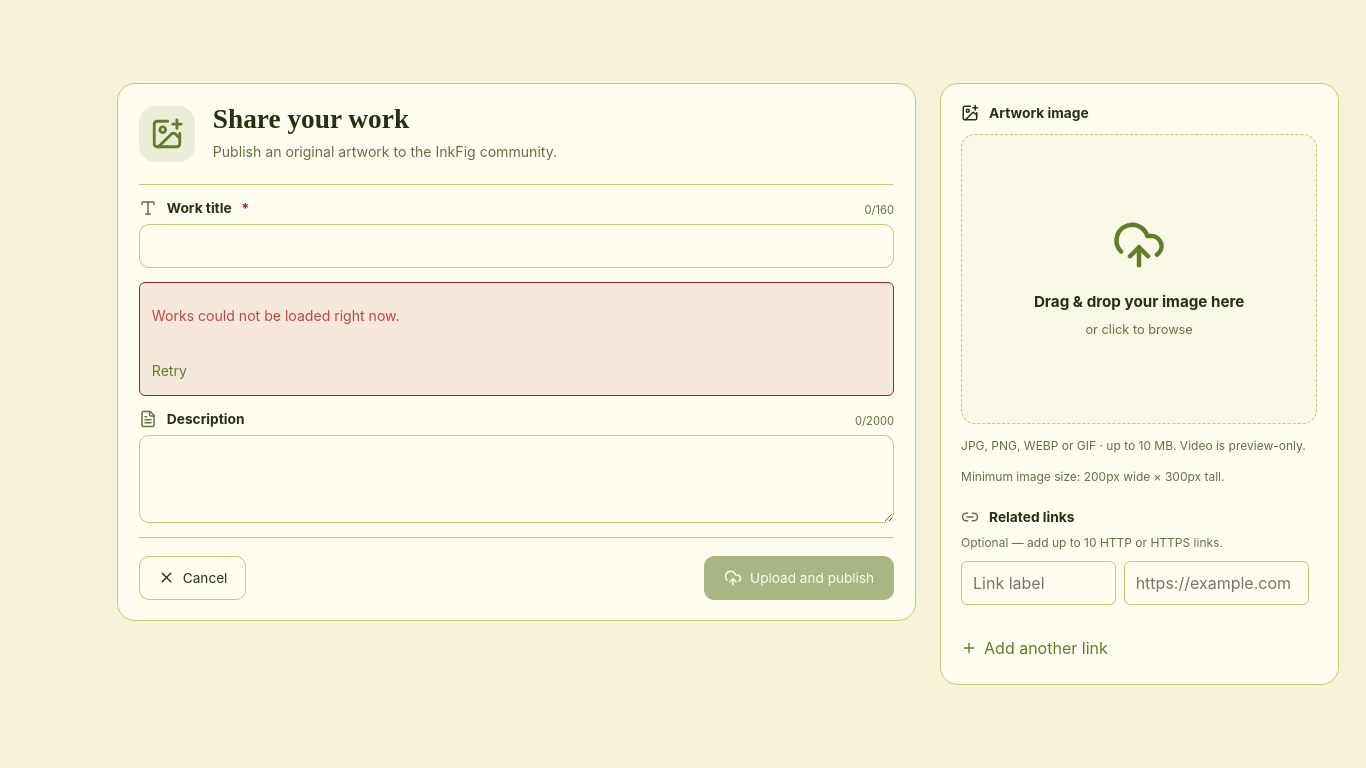
Test case: keeps failure distinct from empty data and retries without flashing either message
Check: the message shows "Works could not be loaded right now.", box [152,307,400,324]
Click the button "Retry". click: x=169, y=370
box: [152,356,187,385]
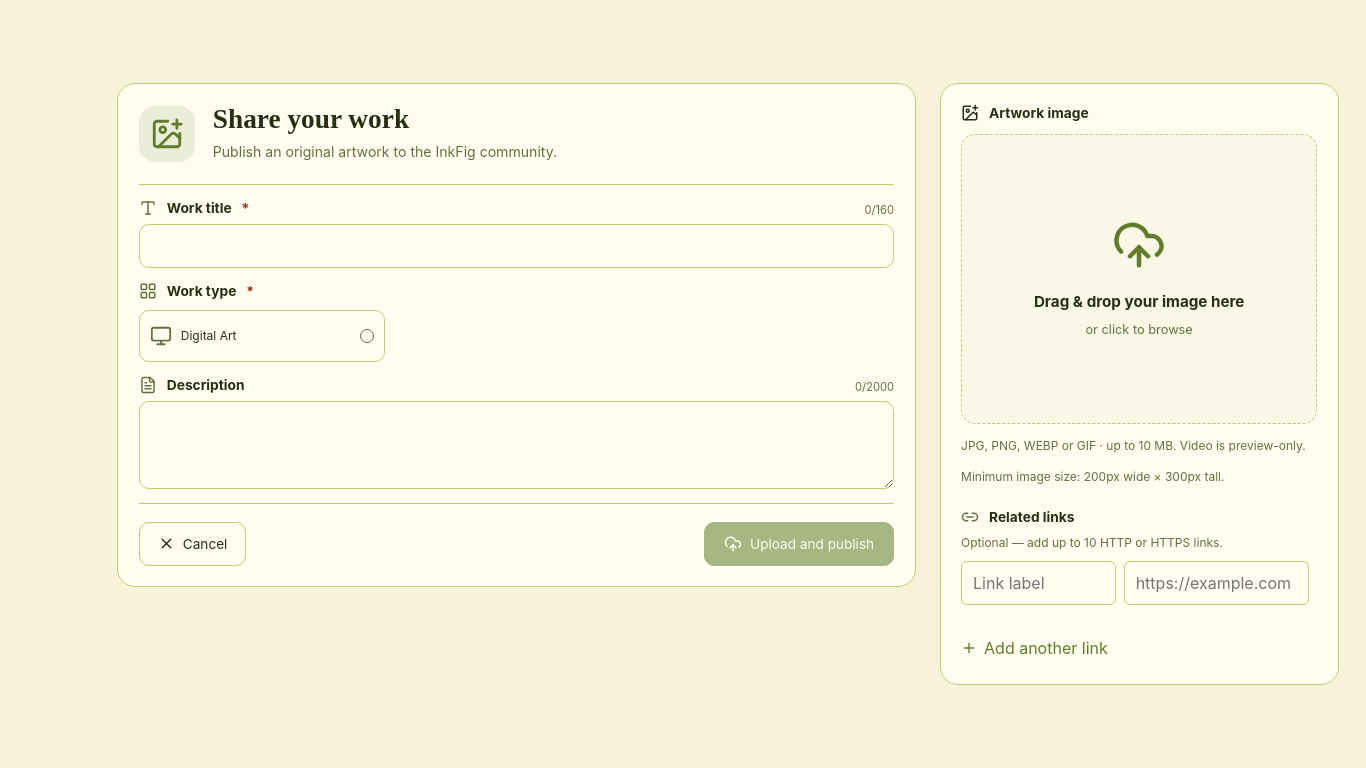
Check: the message "Works could not be loaded right now. Retry" is gone
Check: the radio button labelled "Digital Art" is shown, box [139,310,385,362]
